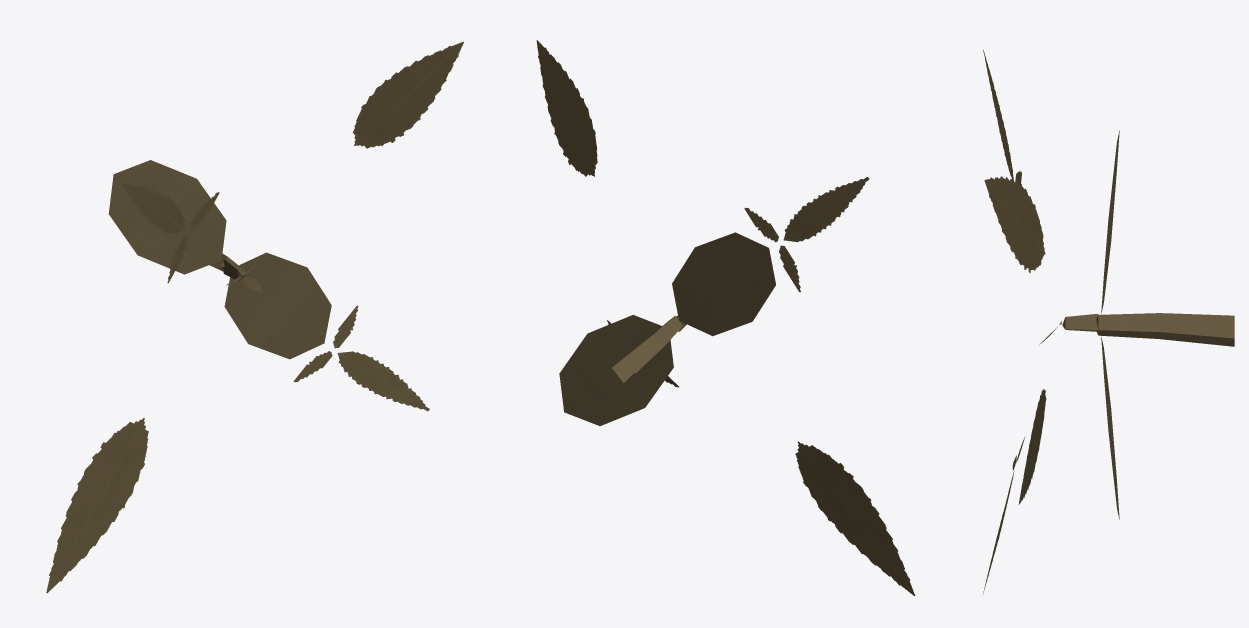
Rendered from p_seedling_c4_cards.obj.
The picture shows the model from 3 angles, left to right: view 1: azimuth 30°, elevation 25°; view 2: azimuth 150°, elevation 25°; view 3: azimuth 270°, elevation 25°; orthographic projection. The views are drawn at different scales.
Size of the model in its own units: 0.447 by 0.486 by 0.182.
Materials: 1 (1 with a texture image).
